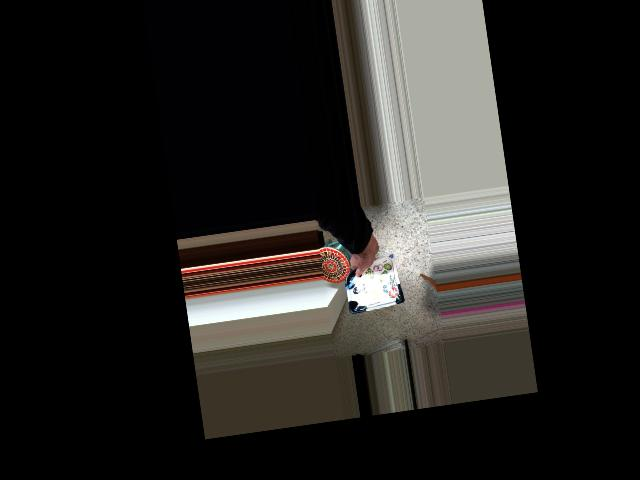cheese: (338, 235, 402, 303)
